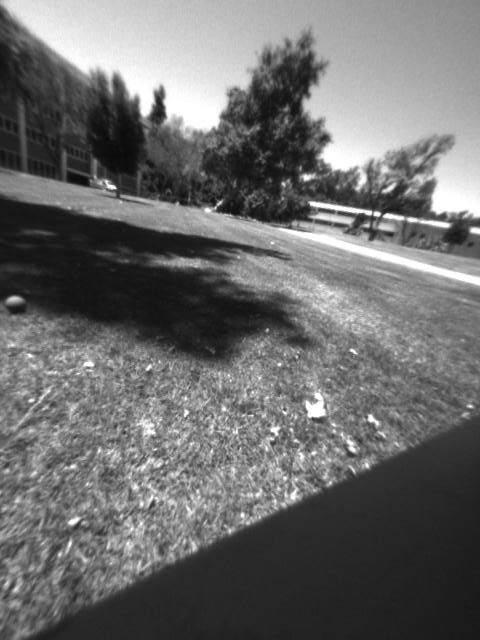dogtoy: (1, 285, 32, 319)
